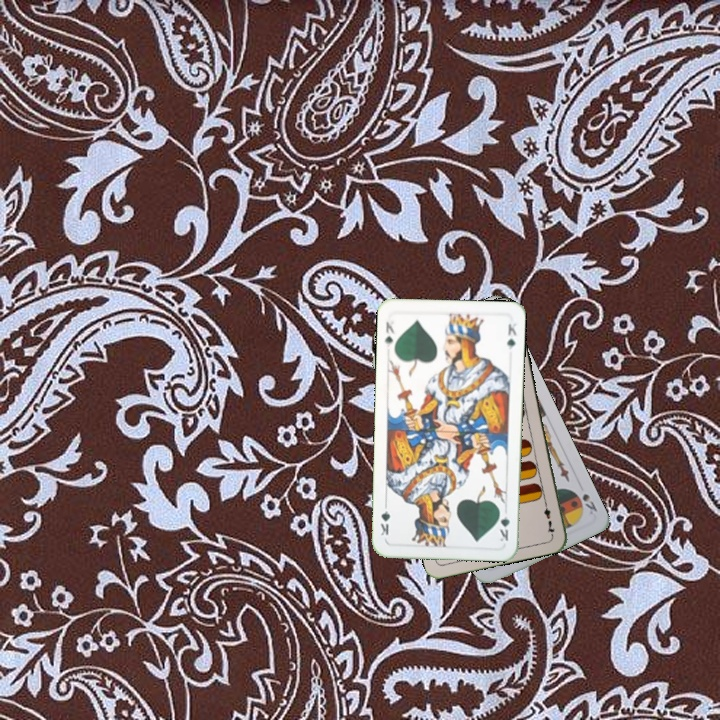E7: (540, 497, 557, 537)
GK: (495, 505, 512, 544), (381, 318, 397, 350)
SK: (578, 489, 600, 517)
